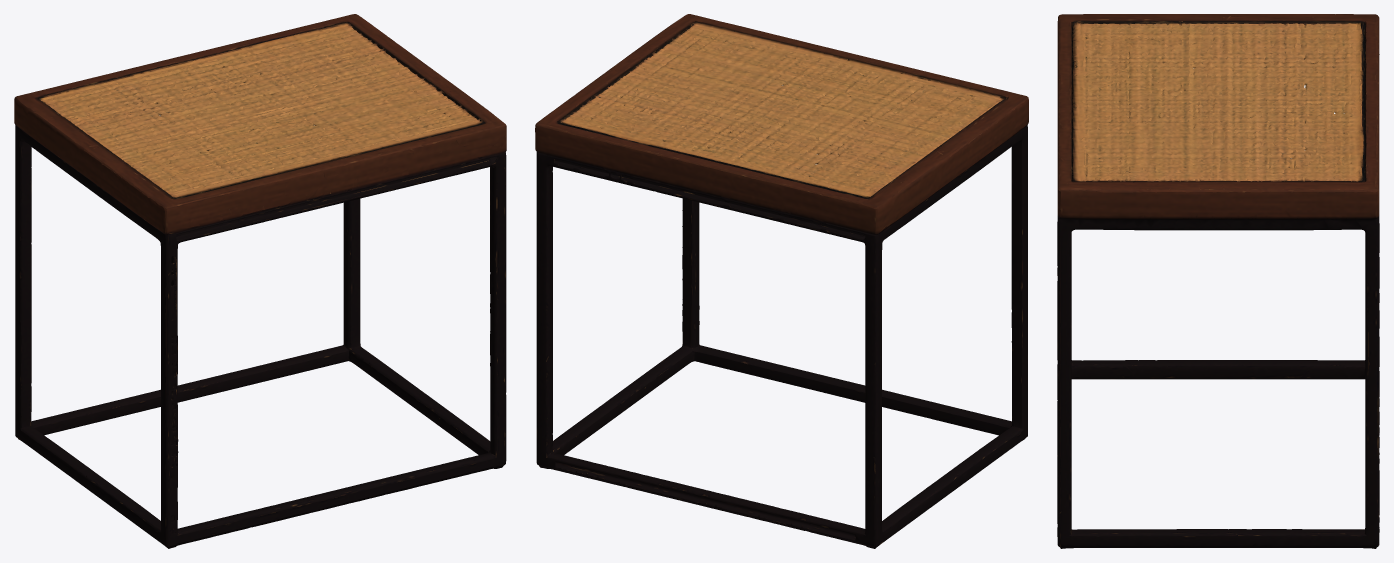
The model's file is item_b65501a6.glb.
The picture shows the model from 3 angles, left to right: view 1: azimuth 30°, elevation 25°; view 2: azimuth 150°, elevation 25°; view 3: azimuth 270°, elevation 25°; orthographic projection. The views are drawn at different scales.
Parts seen in each view (by area): view 1: world; view 2: world; view 3: world.
Part boxes in pixels (x1=…): world: x1=14, y1=14, x2=506, y2=548; world: x1=535, y1=14, x2=1028, y2=548; world: x1=1057, y1=14, x2=1379, y2=548.
Bounding box in the file's own units: 0.5 × 0.4759 × 0.3836.
1 material, 1 textured.
